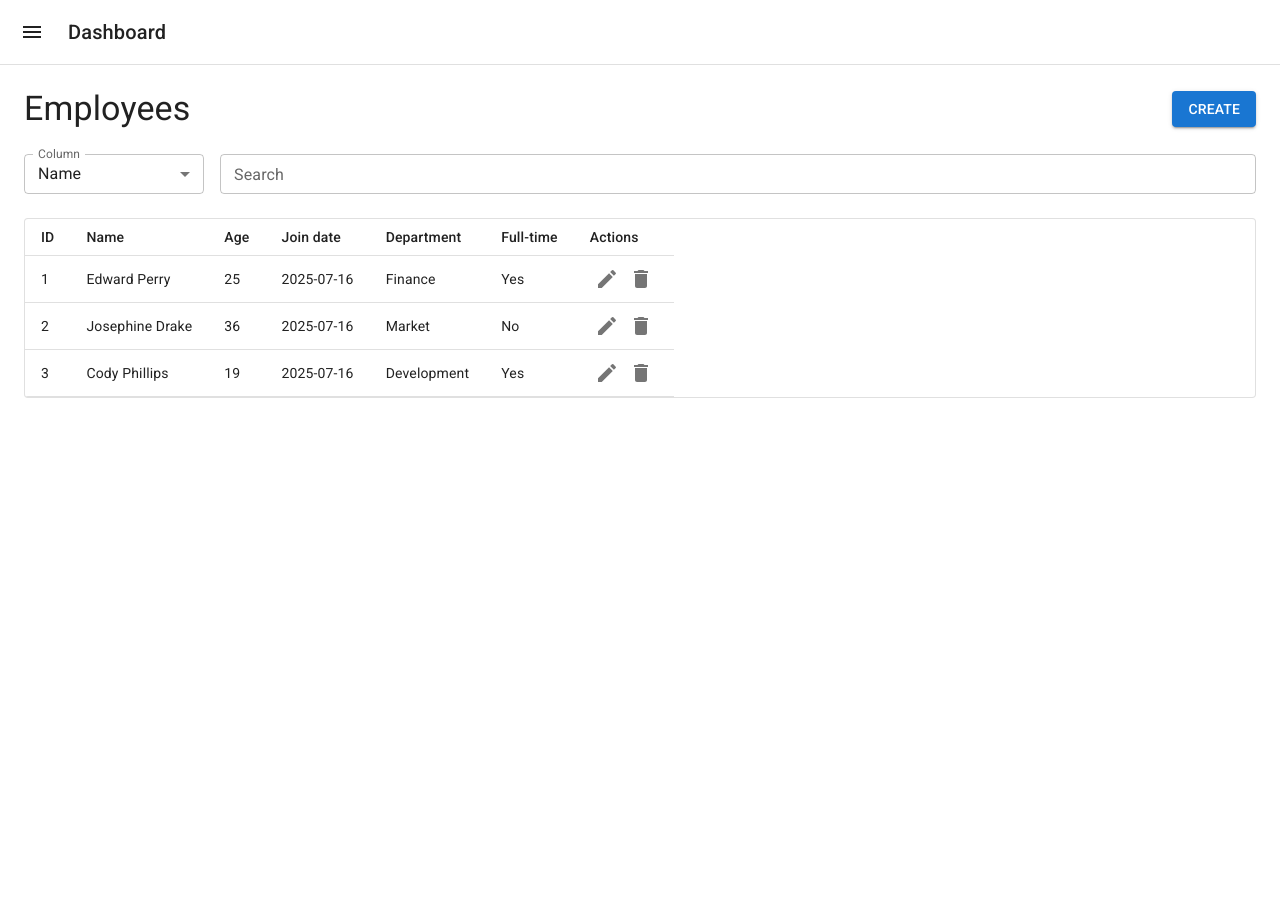
AppLayout › ヘッダーを表示し、メニューからサイドバーを開ける
Expected: the text "Dashboard" is shown, [68,16,166,48]
Click the button named "サイドバーを開く" at (32, 32), box [12,12,52,52]
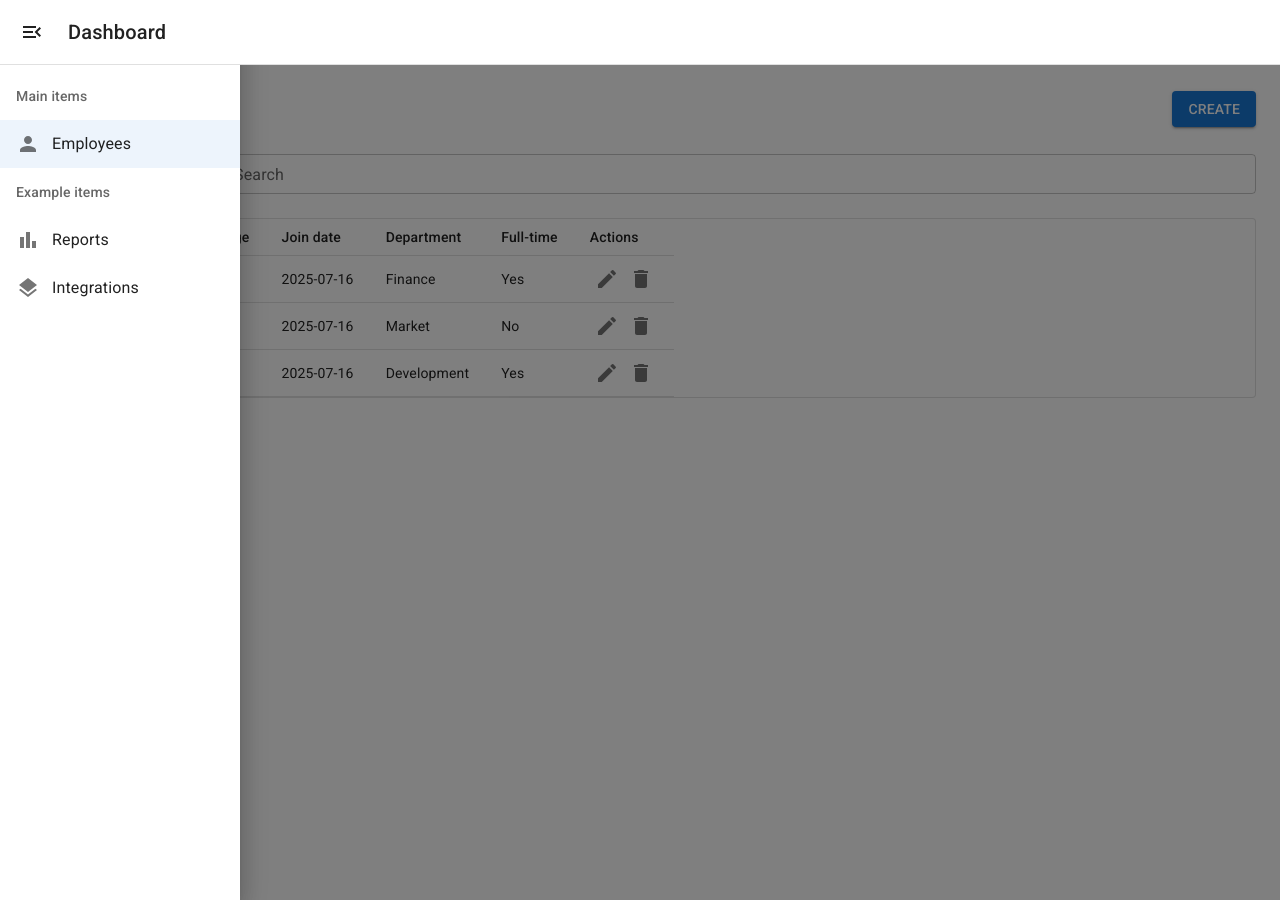
Now the link "Employees" is shown, box [0,120,240,168]
Now the link "Reports" is shown, box [16,228,109,252]
Now the link "Integrations" is shown, box [16,276,139,300]
